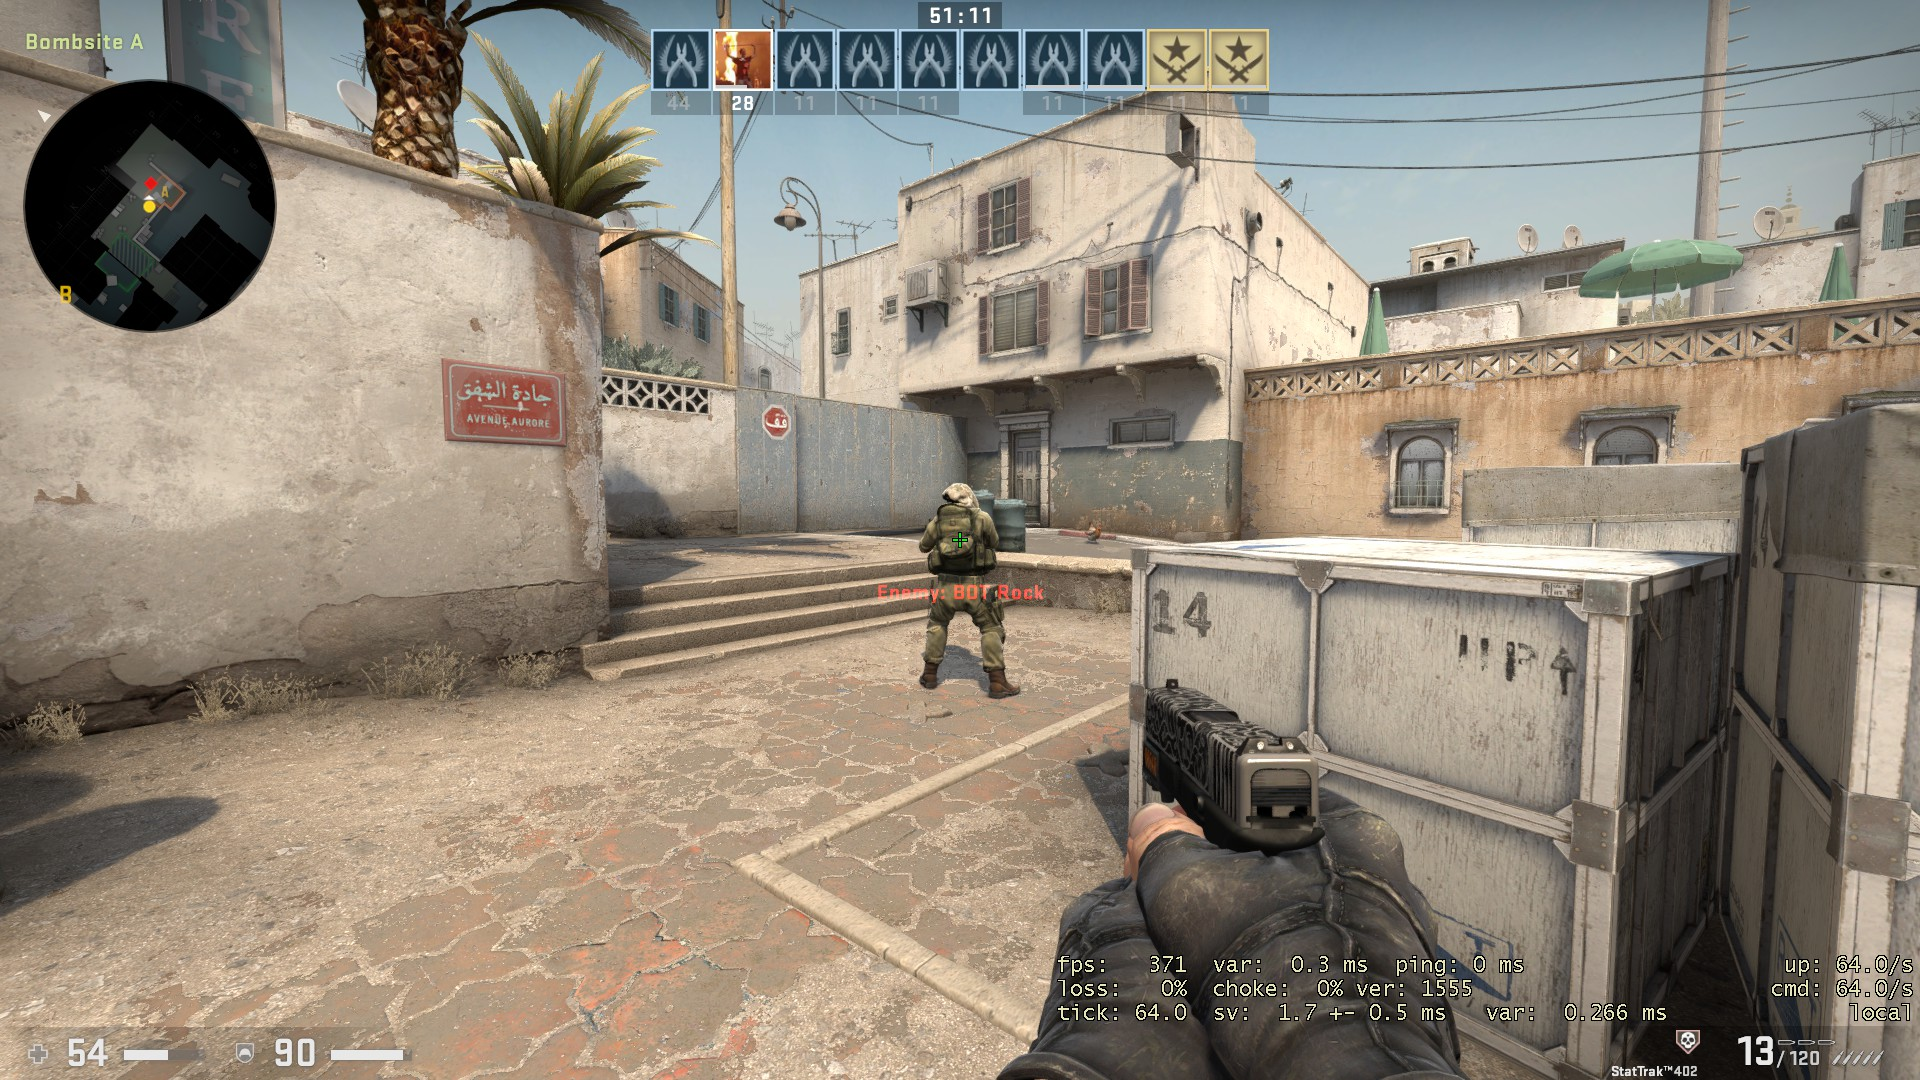player: (906, 472, 1026, 703)
